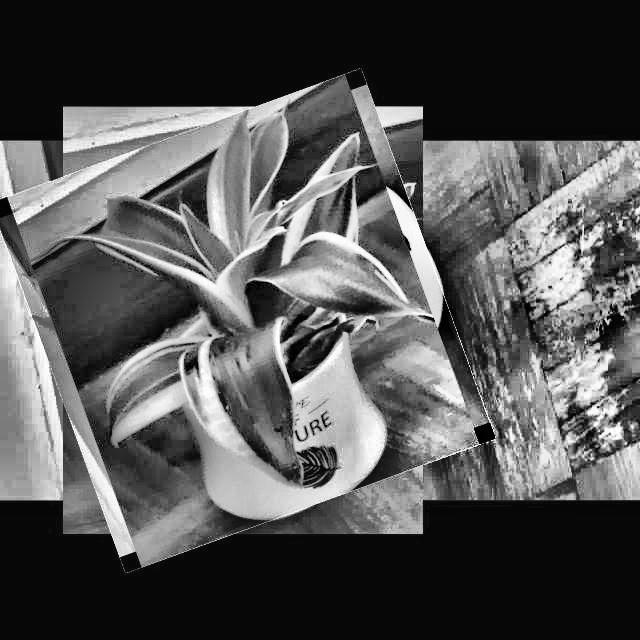plants: (19, 96, 468, 544)
